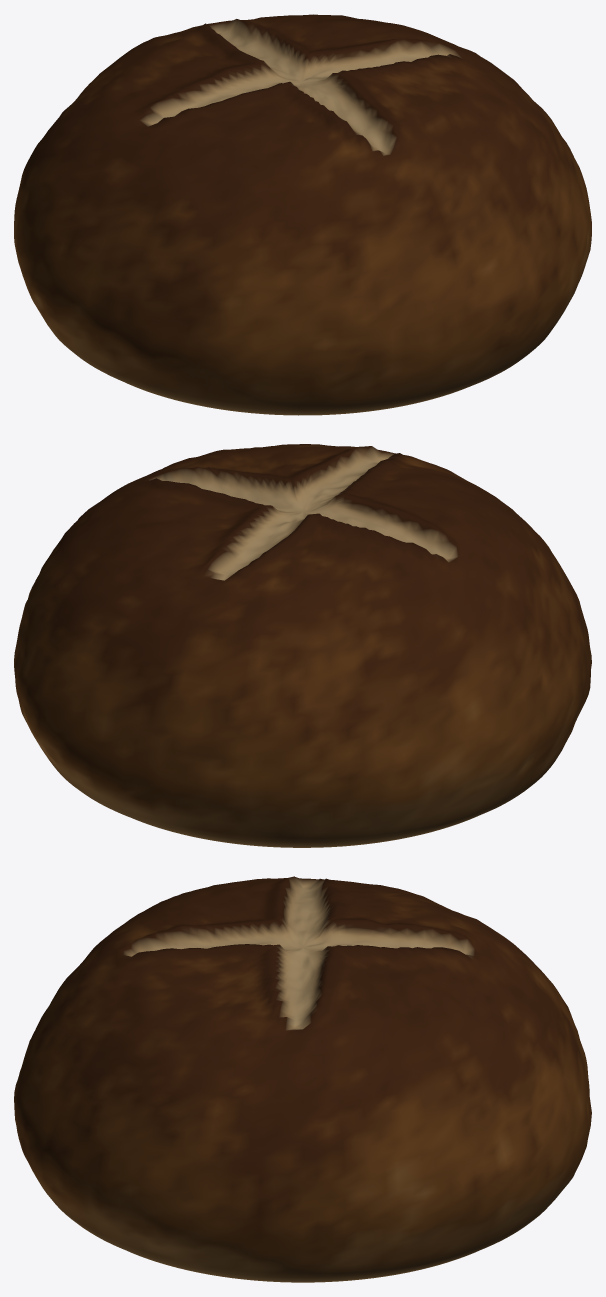
Rendered from biker-750g.glb.
3 renders of one model, top to bottom at view 1: azimuth 30°, elevation 25°; view 2: azimuth 150°, elevation 25°; view 3: azimuth 270°, elevation 25°, orthographic.
Visible parts, largest first — view 1: biker-750g; view 2: biker-750g; view 3: biker-750g.
Boxes of the visible parts, x1,y1,x2,y2 form: biker-750g: [14, 14, 591, 415]; biker-750g: [14, 444, 591, 847]; biker-750g: [14, 876, 591, 1282].
Bounding box in the file's own units: 0.206 × 0.0973 × 0.206.
